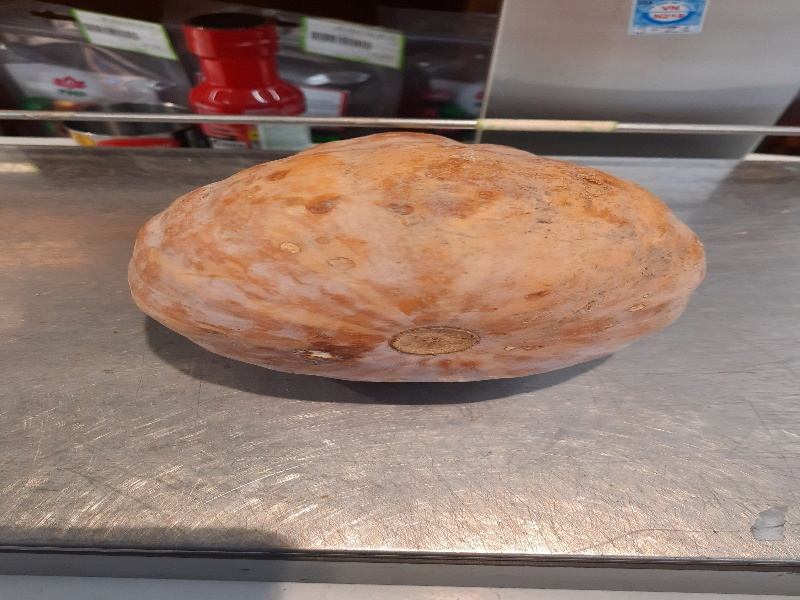vege: (126, 135, 710, 396)
